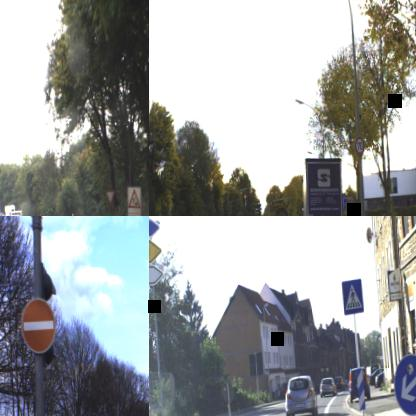CONSTRUCTION: (127, 188, 140, 209)
NO ENTRY: (21, 297, 57, 354)
give way: (104, 188, 116, 206)
keep left: (392, 352, 416, 416)
speed limit 70: (354, 135, 365, 156)
